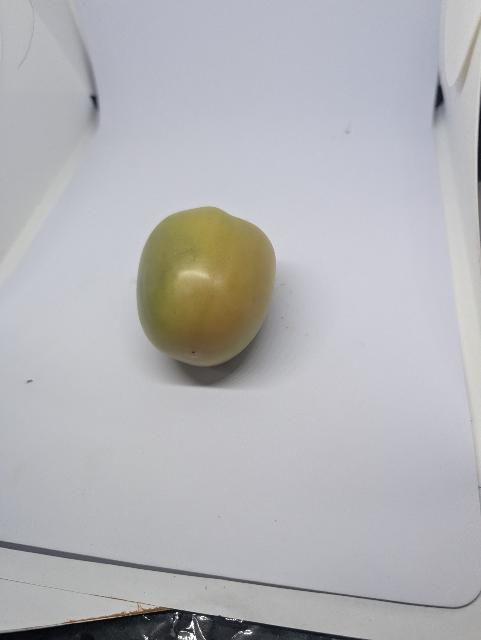breaker: (130, 201, 283, 373)
